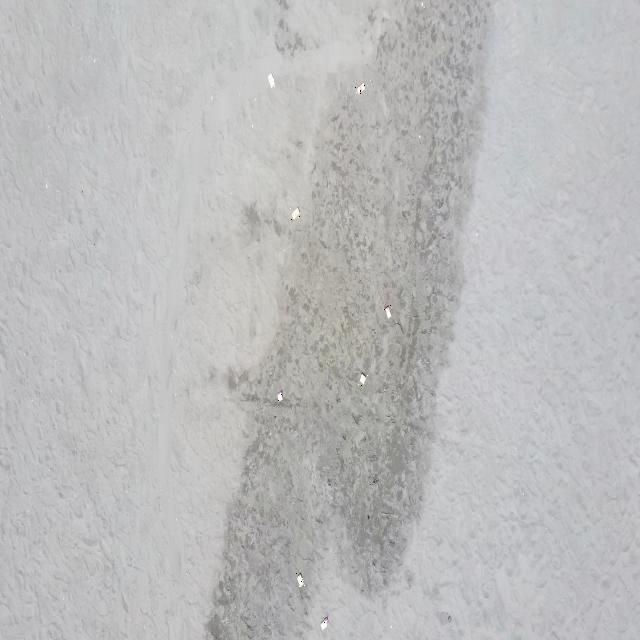retort-pouch: (318, 617, 330, 631), (296, 573, 306, 587), (290, 206, 300, 220), (358, 372, 368, 386), (268, 72, 277, 87), (355, 82, 365, 95), (384, 305, 392, 319), (276, 389, 284, 402)
